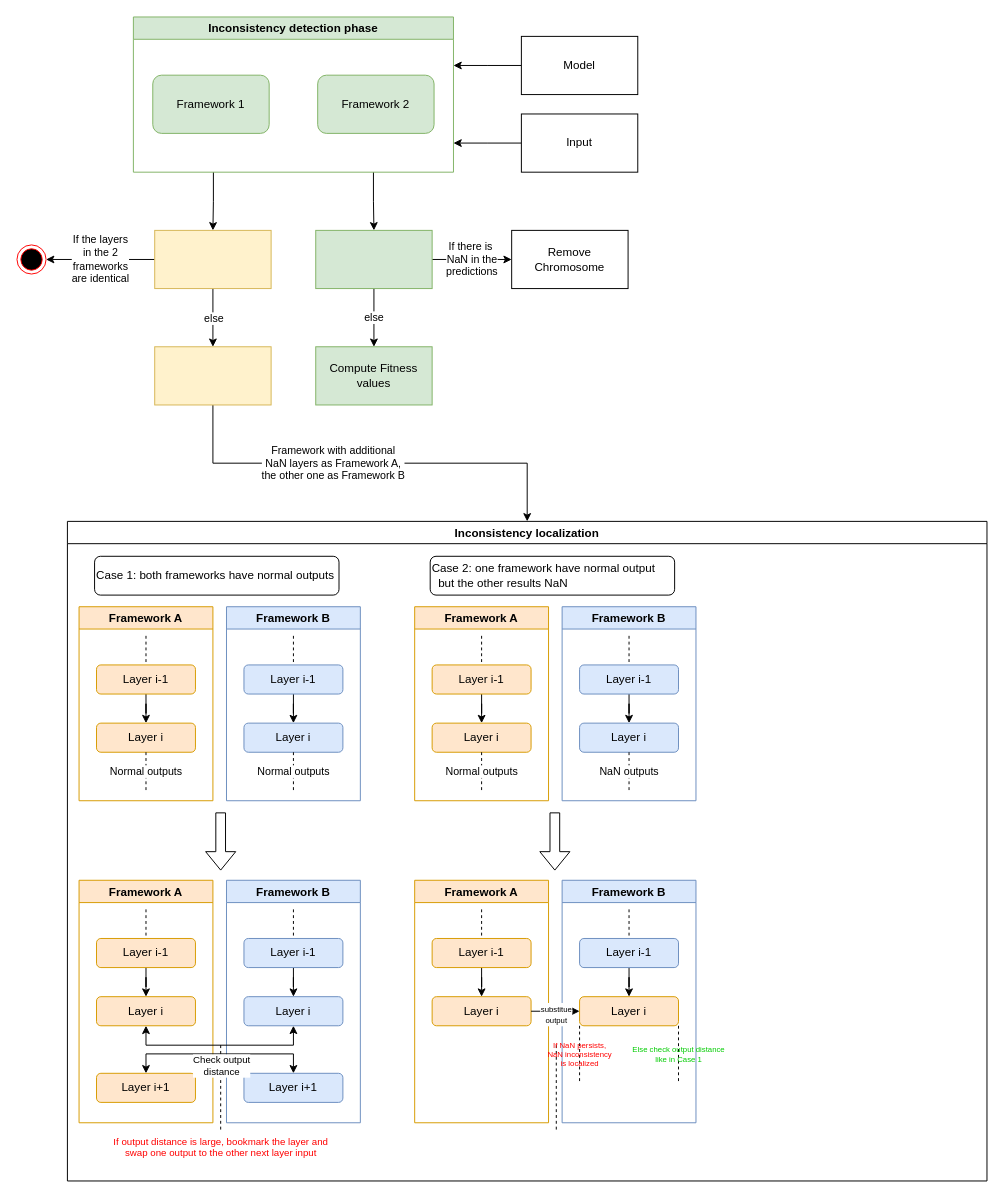
Some shapes in this 1004 by 1198 pixel diagram are drawn without their labels. The centre of each missing label's shape, as x and y in pixels:
"Find the set difference of the NaN layers" goes at (x=212, y=375).
"Layers with NaN in the 2 frameworks" goes at (x=212, y=259).
"Predictions from logit layers" goes at (x=373, y=259).
